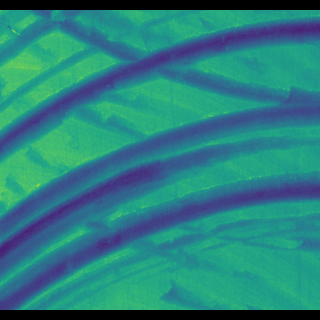Loch: (0, 105, 320, 302), (1, 21, 319, 164), (0, 20, 206, 123)
